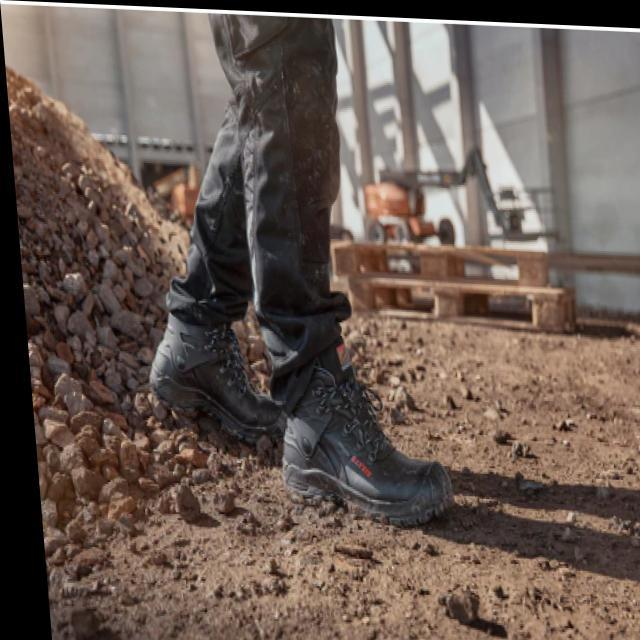shoes: (133, 269, 465, 530)
